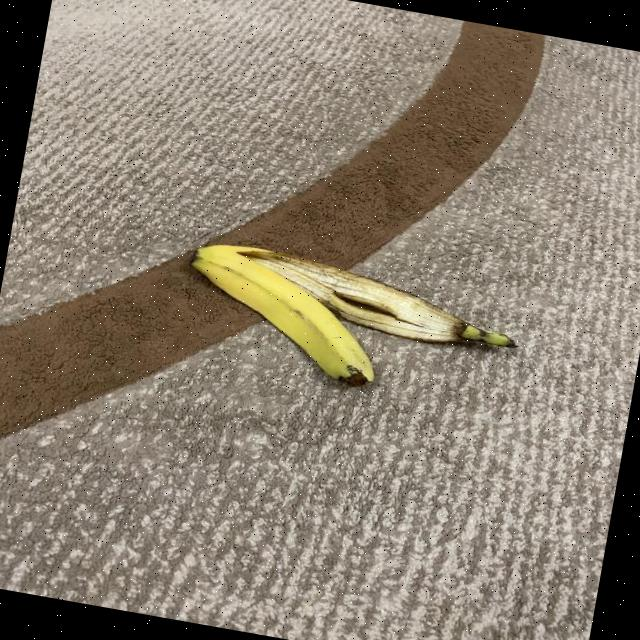banana-peel: (225, 242, 526, 358), (173, 235, 393, 390)
